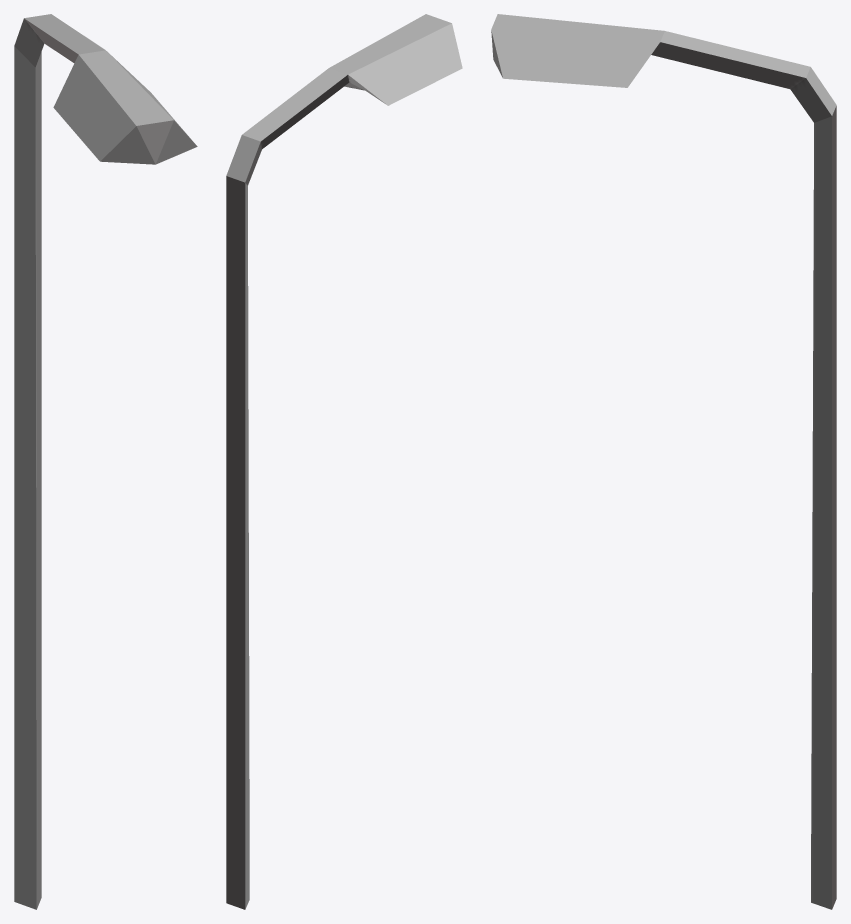
The model's file is ROADlamp.FBX.
The picture shows the model from 3 angles, left to right: view 1: azimuth 30°, elevation 25°; view 2: azimuth 150°, elevation 25°; view 3: azimuth 270°, elevation 25°; orthographic projection. The views are drawn at different scales.
Visible parts, largest first — view 1: Box007; view 2: Box007; view 3: Box007.
Boxes of the visible parts, left/top/right/bottom form: Box007: left=14, top=14, right=197, bottom=909; Box007: left=226, top=14, right=462, bottom=909; Box007: left=491, top=14, right=836, bottom=909.
Size of the model in its own units: 6.34 by 50.92 by 18.6.
